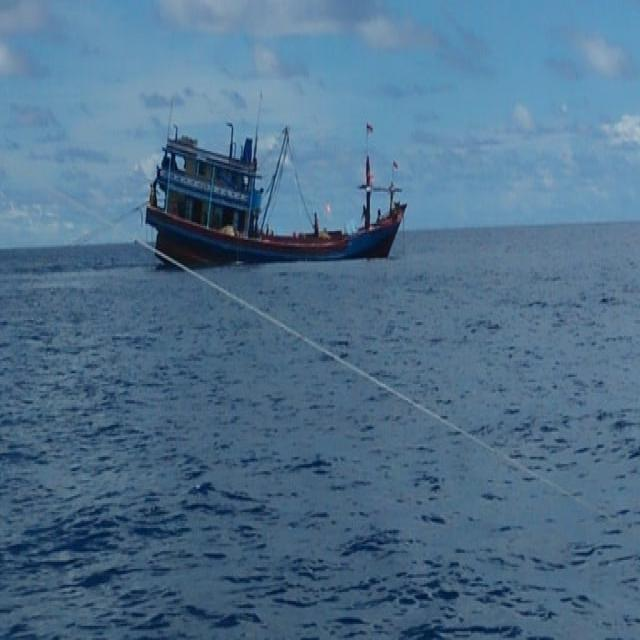Fishing Boat: (139, 82, 414, 294)
